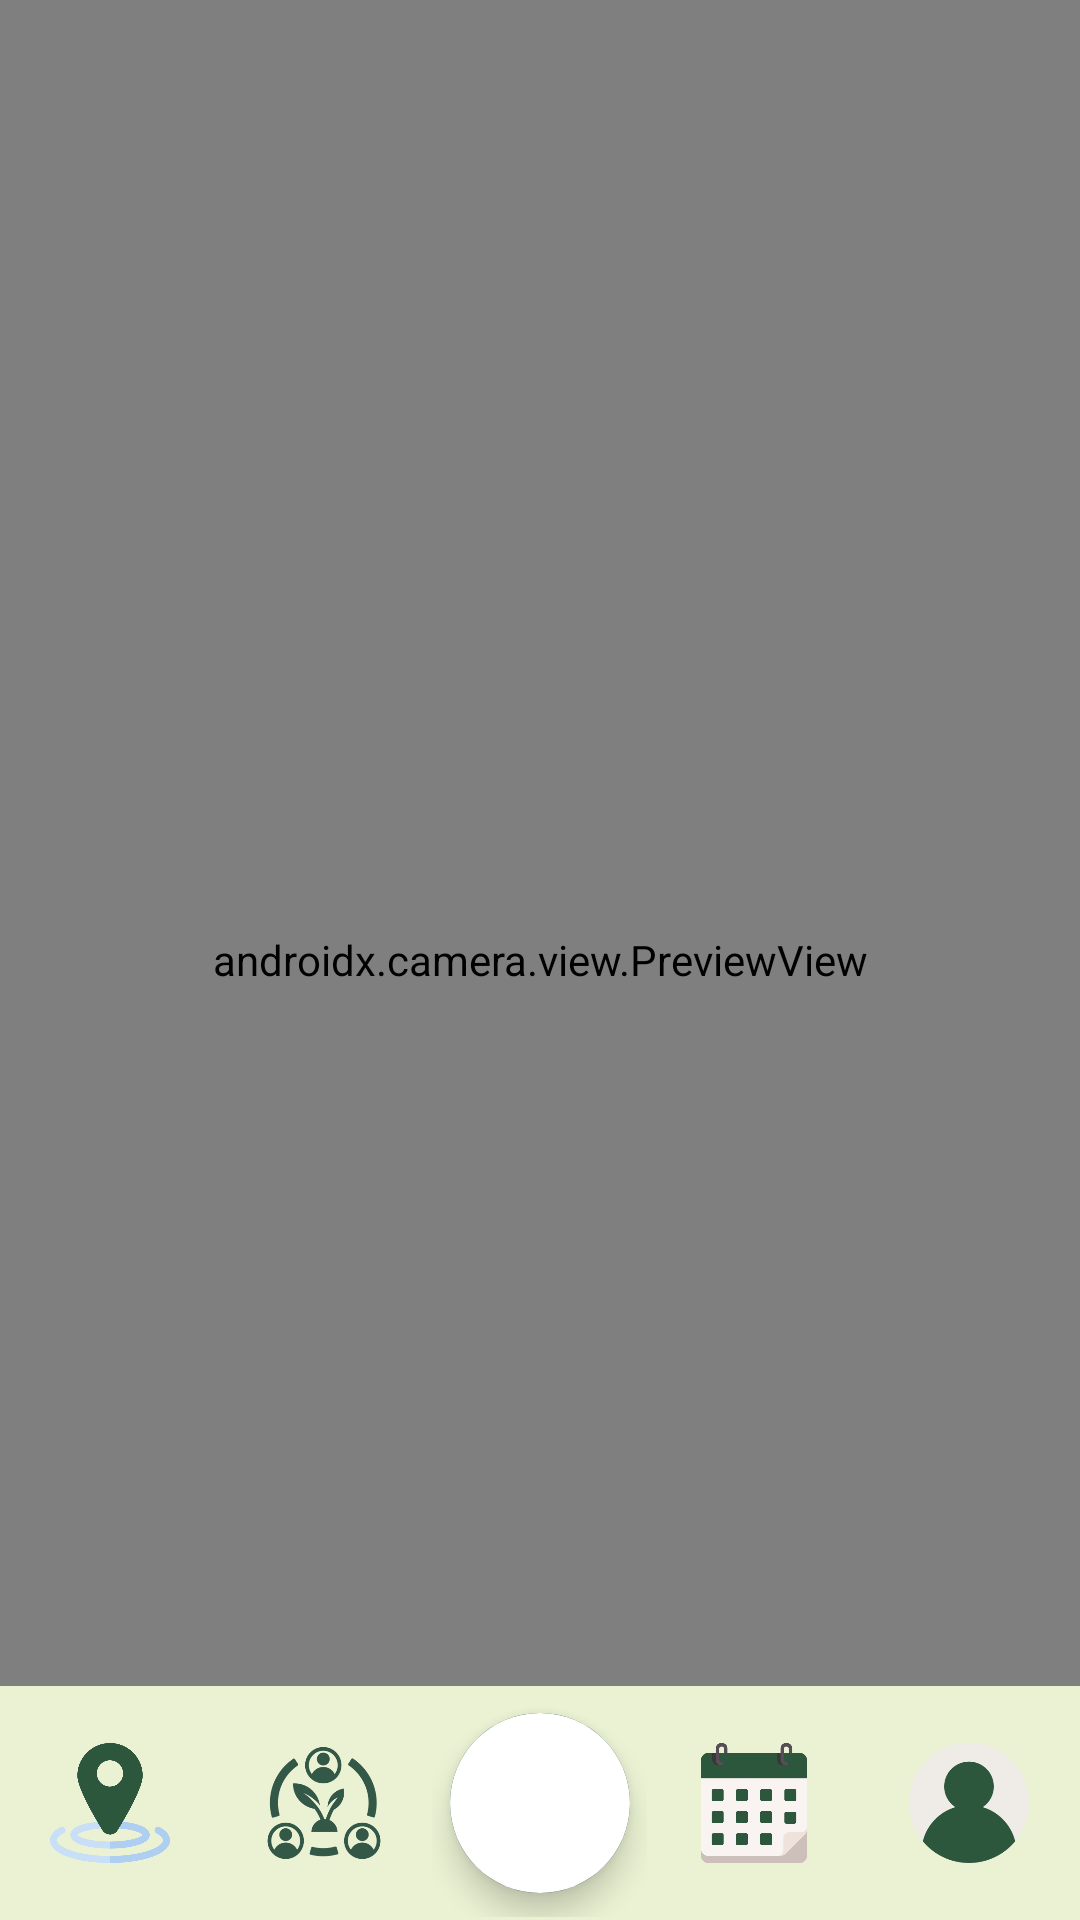

Screen size 1080x1920. Icon name, then its center in pixels as (x=x, y=y):
calendar: (x=754, y=1803)
community: (x=324, y=1803)
map: (x=110, y=1803)
user: (x=969, y=1812)
